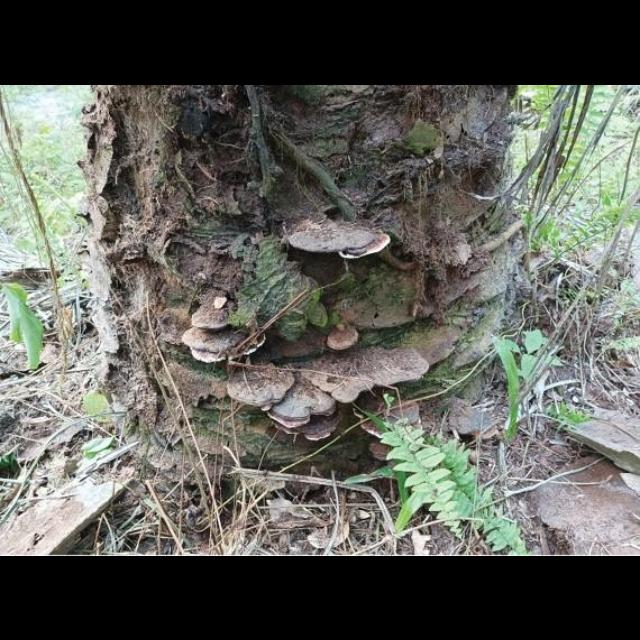ganoderma: (300, 345, 436, 405), (288, 221, 393, 262), (225, 362, 297, 409), (267, 385, 339, 431), (351, 397, 423, 443), (182, 325, 269, 363), (192, 305, 235, 333), (304, 413, 343, 443), (327, 328, 360, 350)
